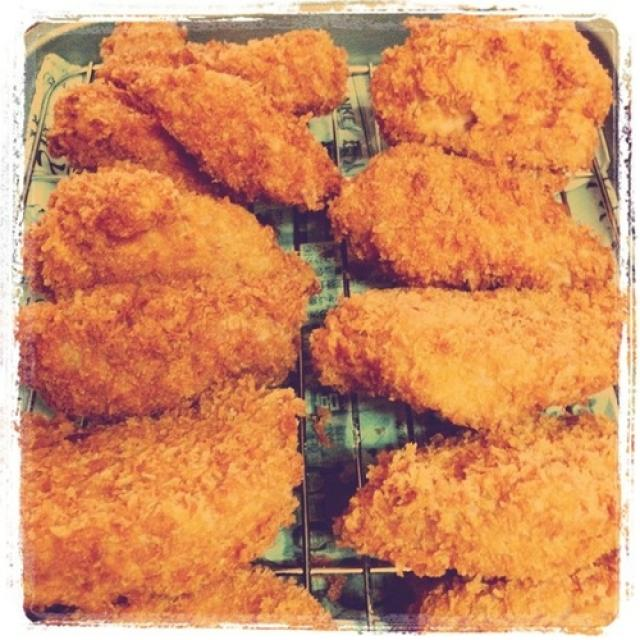牛肉菜式: (30, 20, 620, 626)
